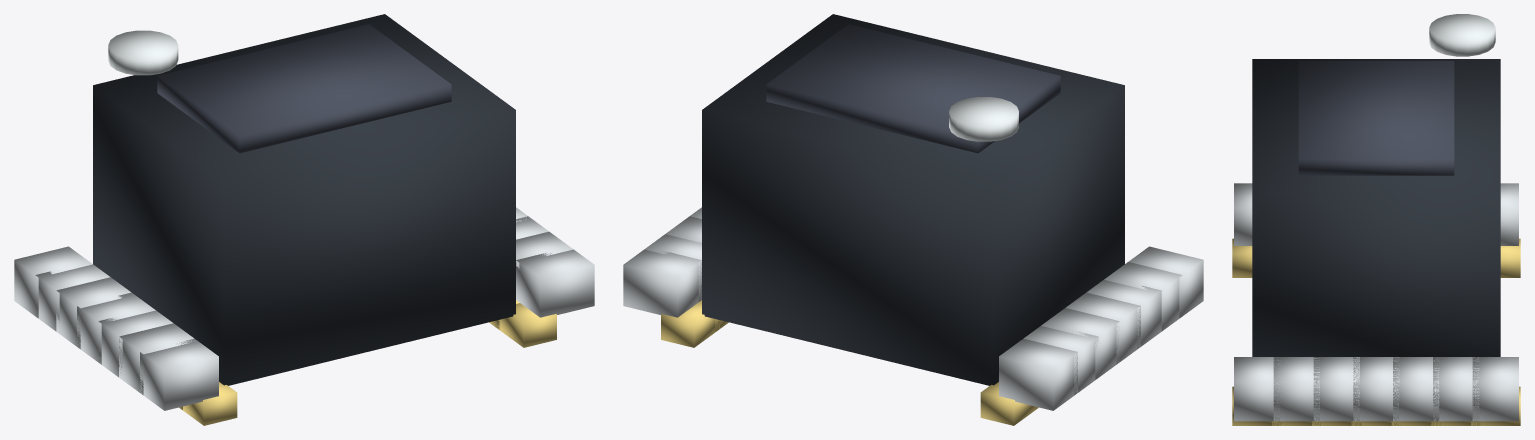
The model's file is 23_L95_U6_74HC08_LogicGate_SOIC14.fbx.
3 views of the same model, side by side, from view 1: azimuth 30°, elevation 25°; view 2: azimuth 150°, elevation 25°; view 3: azimuth 270°, elevation 25° (orthographic). The views are drawn at different scales.
Visible parts, largest first — view 1: L95_74HC08_LogicGate_SOIC14_Part_0000, L95_74HC08_LogicGate_SOIC14_Part_0002, L95_74HC08_LogicGate_SOIC14_Part_0001, L95_74HC08_LogicGate_SOIC14_Part_0003, L95_74HC08_LogicGate_SOIC14_Part_0004; view 2: L95_74HC08_LogicGate_SOIC14_Part_0000, L95_74HC08_LogicGate_SOIC14_Part_0002, L95_74HC08_LogicGate_SOIC14_Part_0001, L95_74HC08_LogicGate_SOIC14_Part_0003, L95_74HC08_LogicGate_SOIC14_Part_0004; view 3: L95_74HC08_LogicGate_SOIC14_Part_0000, L95_74HC08_LogicGate_SOIC14_Part_0002, L95_74HC08_LogicGate_SOIC14_Part_0001, L95_74HC08_LogicGate_SOIC14_Part_0003, L95_74HC08_LogicGate_SOIC14_Part_0004.
Boxes of the visible parts, x1,y1,x2,y2 form: L95_74HC08_LogicGate_SOIC14_Part_0000: [93, 14, 515, 385]; L95_74HC08_LogicGate_SOIC14_Part_0002: [14, 207, 594, 410]; L95_74HC08_LogicGate_SOIC14_Part_0001: [157, 24, 451, 153]; L95_74HC08_LogicGate_SOIC14_Part_0003: [179, 300, 556, 425]; L95_74HC08_LogicGate_SOIC14_Part_0004: [108, 30, 178, 75]; L95_74HC08_LogicGate_SOIC14_Part_0000: [702, 14, 1124, 385]; L95_74HC08_LogicGate_SOIC14_Part_0002: [623, 207, 1203, 410]; L95_74HC08_LogicGate_SOIC14_Part_0001: [766, 24, 1060, 153]; L95_74HC08_LogicGate_SOIC14_Part_0003: [661, 300, 1038, 425]; L95_74HC08_LogicGate_SOIC14_Part_0004: [949, 97, 1018, 141]; L95_74HC08_LogicGate_SOIC14_Part_0000: [1252, 59, 1500, 356]; L95_74HC08_LogicGate_SOIC14_Part_0002: [1234, 183, 1518, 421]; L95_74HC08_LogicGate_SOIC14_Part_0001: [1298, 61, 1454, 175]; L95_74HC08_LogicGate_SOIC14_Part_0003: [1232, 238, 1520, 425]; L95_74HC08_LogicGate_SOIC14_Part_0004: [1429, 14, 1495, 56].
Size of the model in its own units: 0.1421 by 0.0875 by 0.087.
